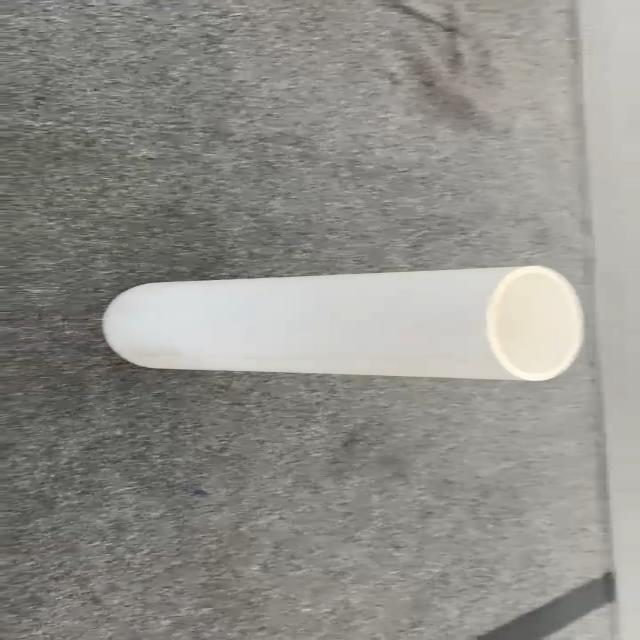coral: (100, 264, 585, 382)
